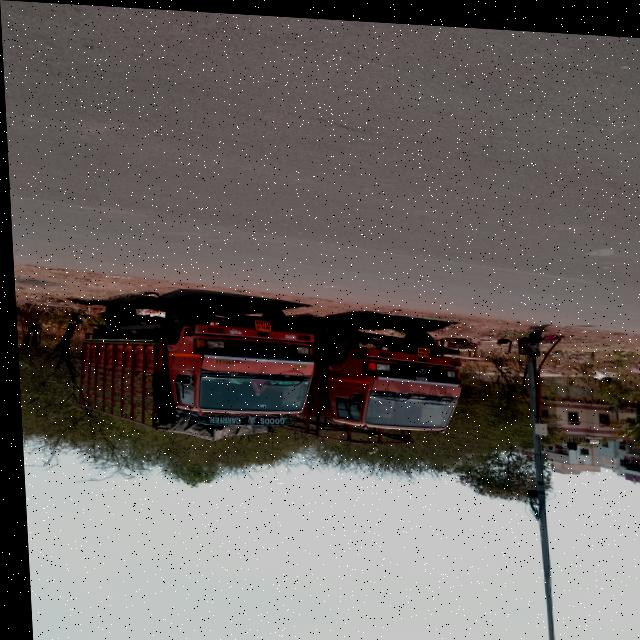plate: (251, 317, 268, 329), (413, 342, 427, 352)
